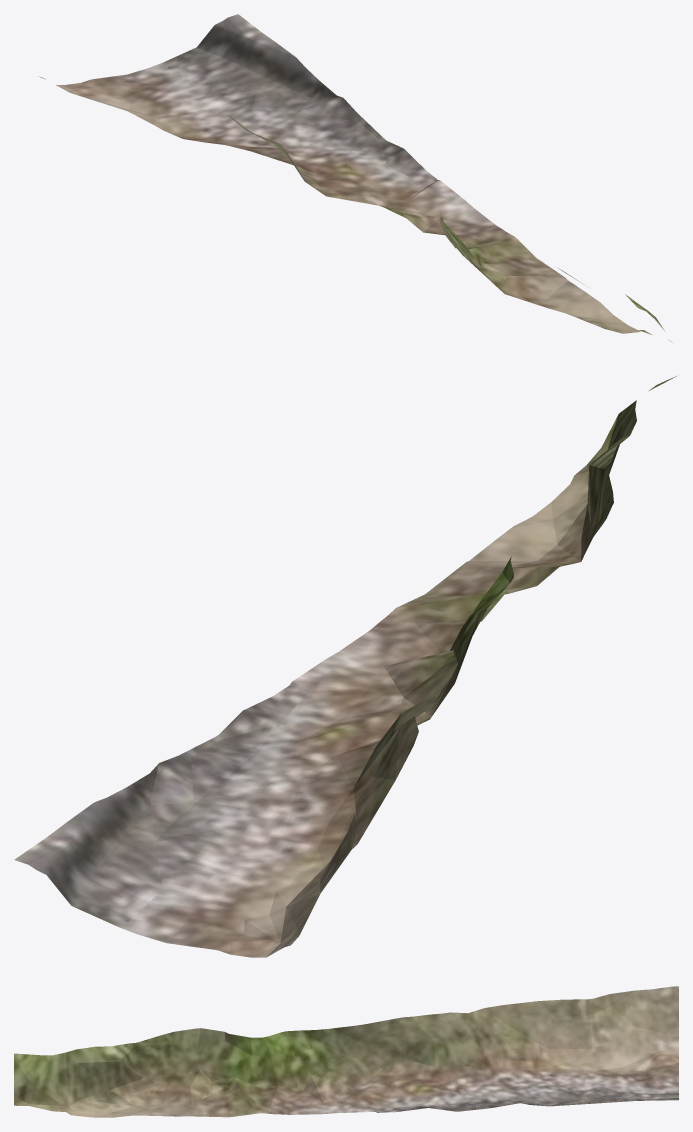
3 views of the same model, one above another, from view 1: azimuth 30°, elevation 25°; view 2: azimuth 150°, elevation 25°; view 3: azimuth 270°, elevation 25° (orthographic). The views are drawn at different scales.
Size of the model in its own units: 0.8664 by 0.2666 by 2.95.
1 material, 1 textured.
